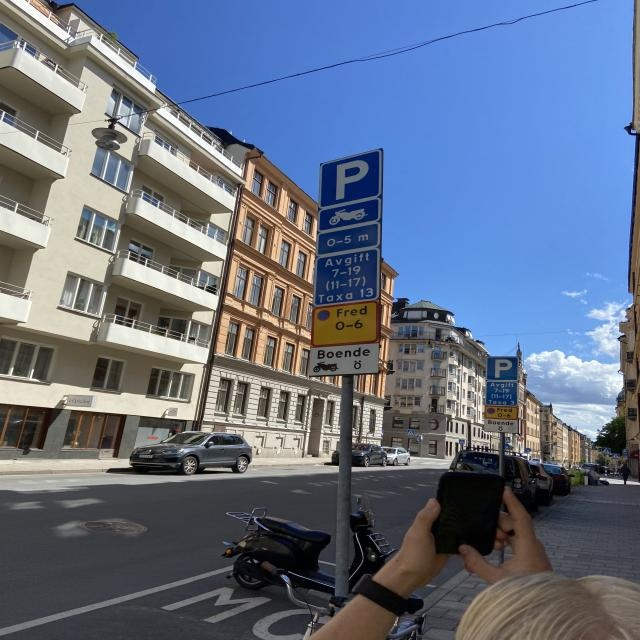P-skylt: (318, 146, 383, 208), (488, 356, 520, 382)
